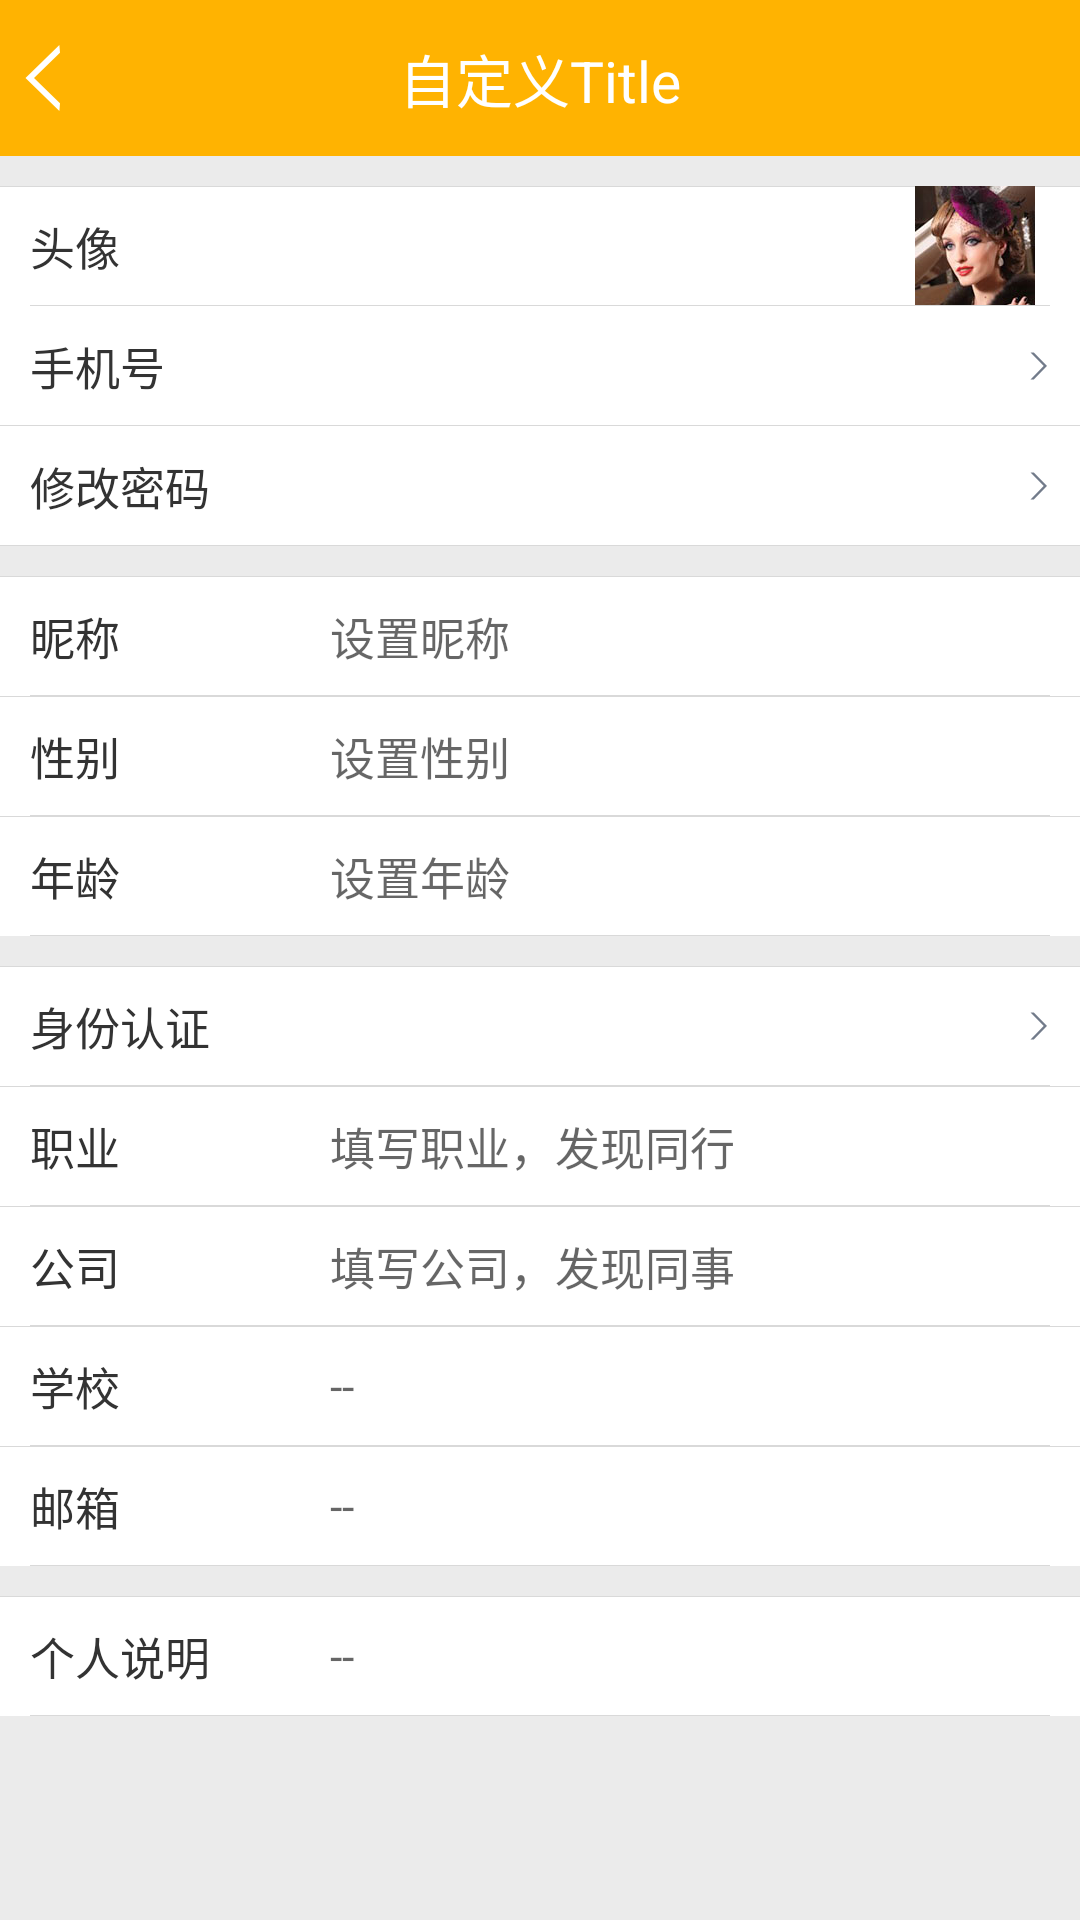

Locate icon controls on the screen. Image size 1080x1920, boxes as (x1, y1, x2, y2).
back: (25, 45, 60, 111)
